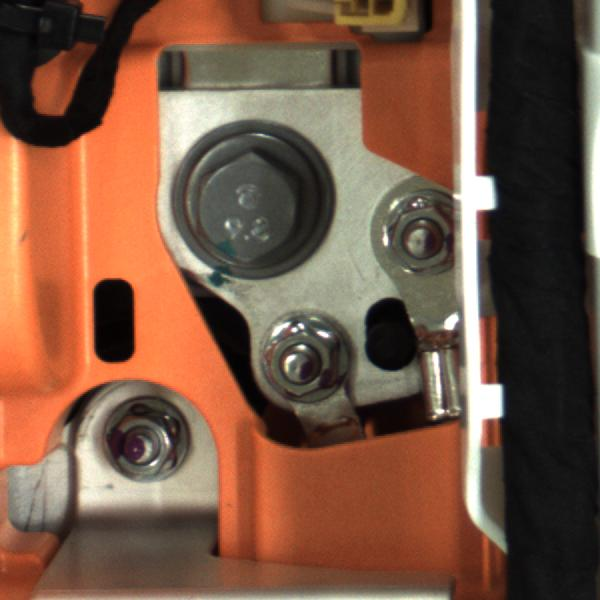nut_b: (165, 115, 326, 285)
screw_s: (248, 314, 362, 413), (375, 181, 461, 275), (97, 401, 191, 486)
